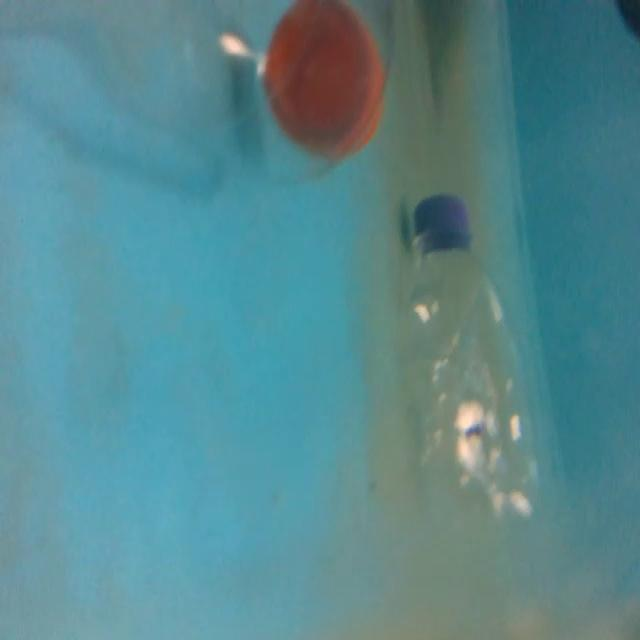plastic bottle: (387, 188, 543, 554)
